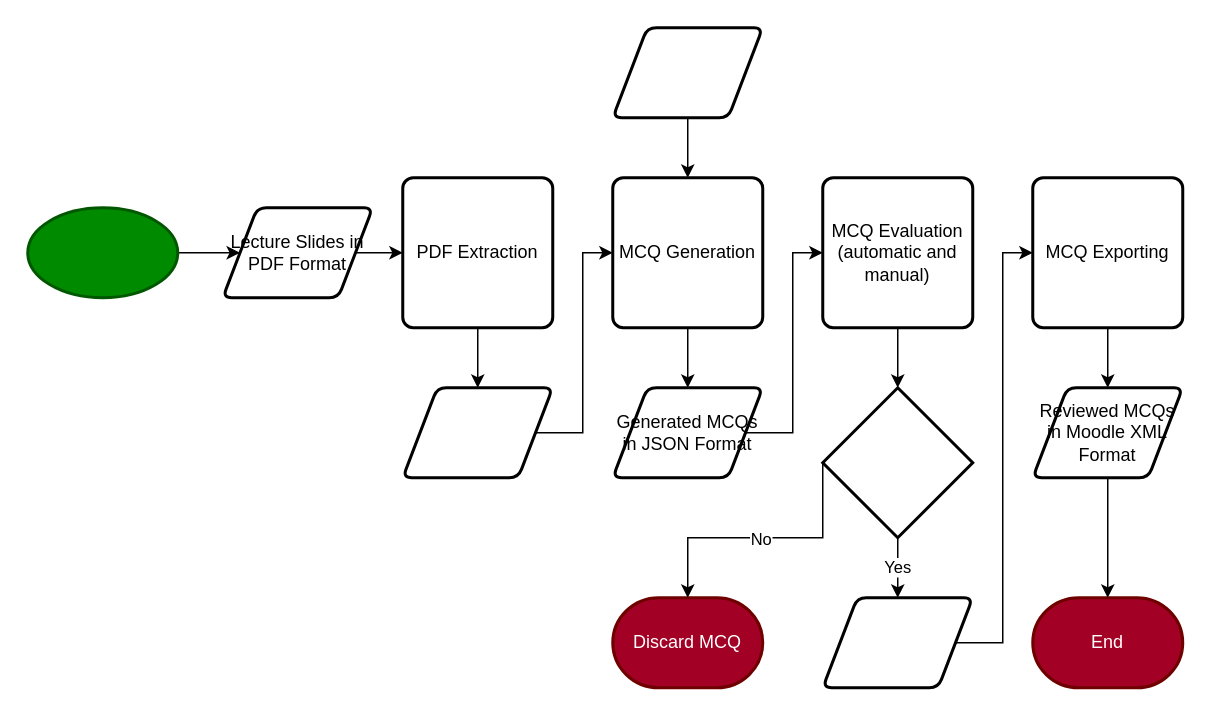
The diagram is 1209 pixels wide and 714 high, and some of its shapes have lost their labels. The shapes that lost their labels are listed below. From the top down, each one's centre as x and y in pixels, then its label:
At point 687,72: "Prompting Strategy".
At point 102,252: "Start".
At point 477,432: "Chunks of extracted text".
At point 897,462: "Quality Acceptable?".
At point 897,642: "Reviewed MCQs".
